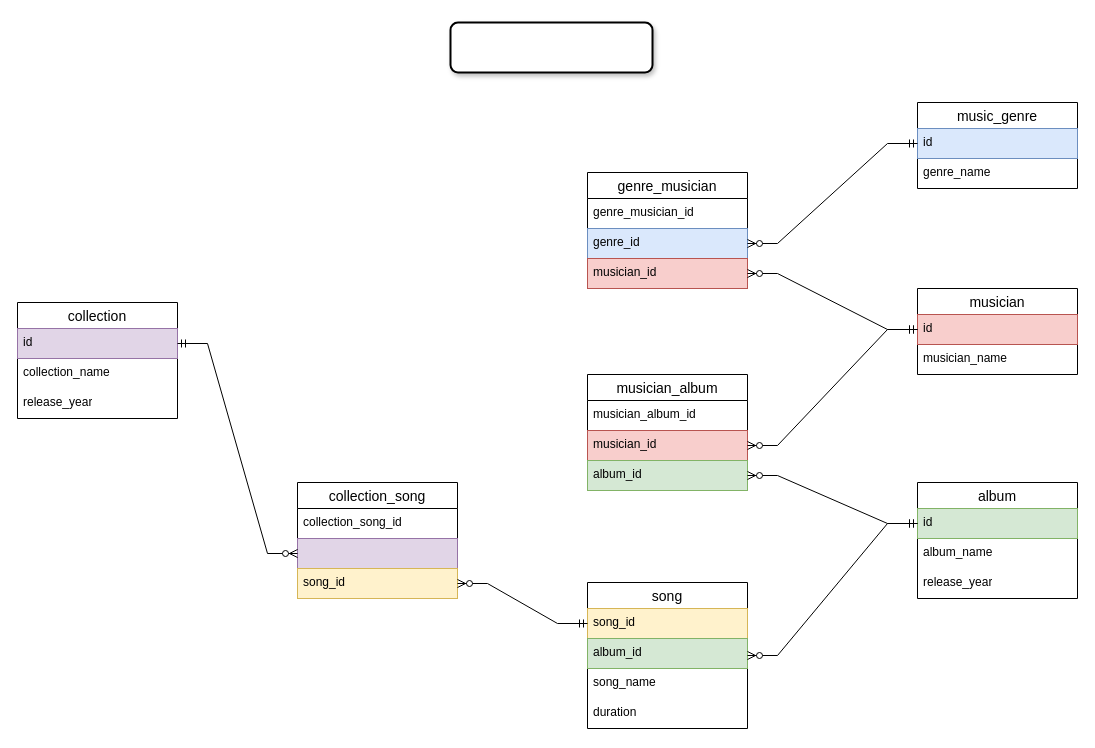
Image size: 1095x748. Some labels were removed from this diagram. The centre of each missing label's shape, as x and y in pixels:
"collection_id" goes at (377,553).
"Music service DB" goes at (552,48).
